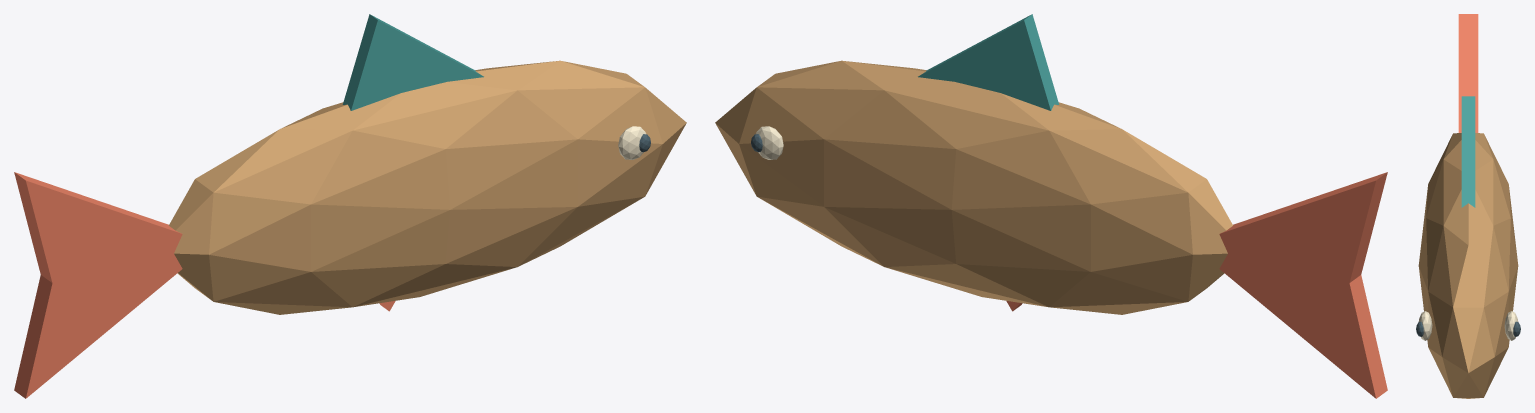
File: carp_fish_quiet_lake_fishing_22415.glb
3 views of the same model, side by side, from view 1: azimuth 30°, elevation 25°; view 2: azimuth 150°, elevation 25°; view 3: azimuth 270°, elevation 25° (orthographic). The views are drawn at different scales.
Parts seen in each view (by area): view 1: wood, coral, teal, cream; view 2: wood, coral, teal, cream; view 3: wood, coral, teal, cream, iron.
Boxes of the visible parts, box(x1,y1,x2,y2) form: wood: box(169, 60, 686, 314); coral: box(14, 172, 395, 398); teal: box(342, 14, 483, 110); cream: box(618, 126, 646, 159); wood: box(715, 60, 1232, 314); coral: box(1006, 172, 1387, 398); teal: box(918, 14, 1059, 110); cream: box(755, 126, 783, 159); wood: box(1418, 133, 1518, 398); coral: box(1458, 14, 1478, 132); teal: box(1461, 96, 1475, 207); cream: box(1418, 311, 1518, 340); iron: box(1416, 321, 1520, 336).
Bounding box in the file's own units: 1.15 × 0.485 × 0.1896.
